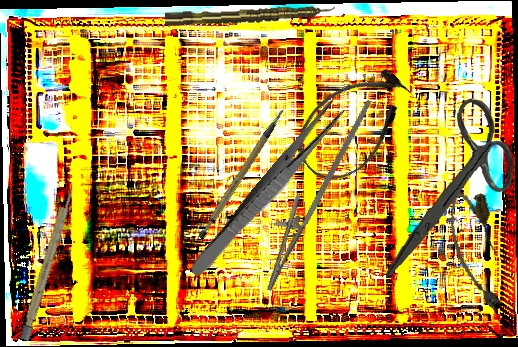Cannula: (282, 53, 426, 195), (443, 187, 510, 317)
Dressing Forceps: (186, 96, 349, 284)
Handpiece: (164, 2, 336, 28)
Iris Scissors: (385, 94, 517, 285)
Needle Holder: (250, 84, 373, 301)
Scalpel Handle: (182, 107, 304, 242), (19, 188, 75, 342)
